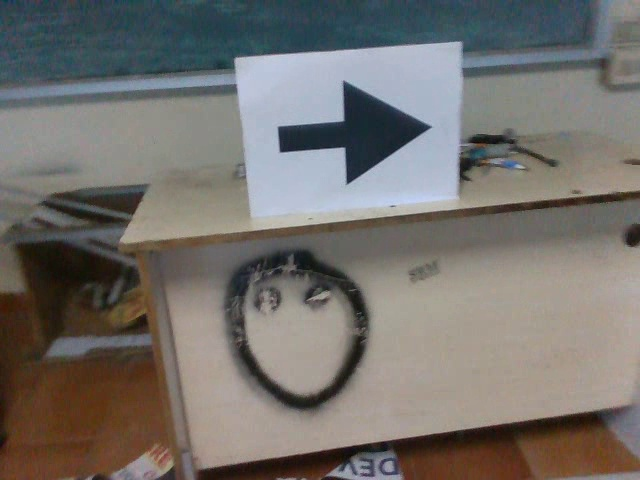Right: (266, 76, 436, 185)
